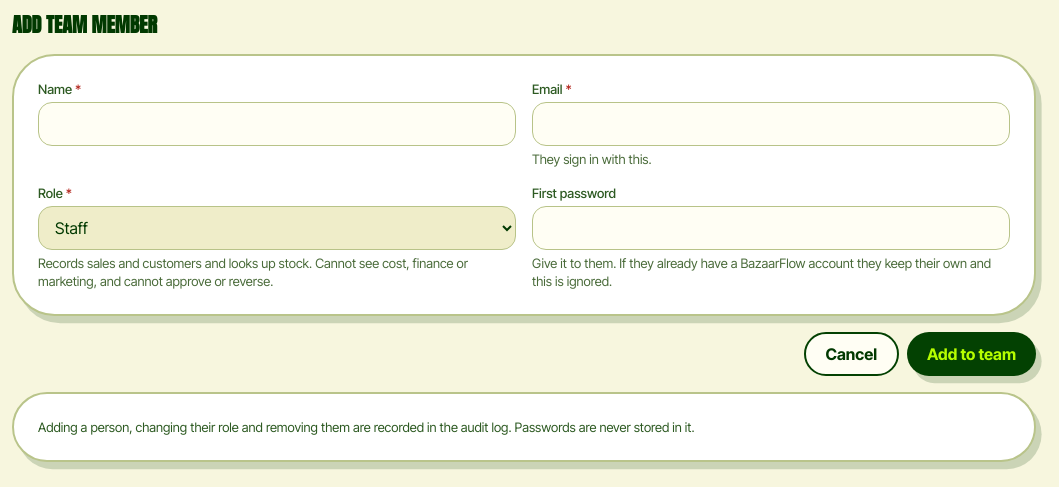
Scenario: Add team member form › explains what each role can do and checks the input before sending
Expected: the text "Records sales and customers" is shown, 38,255 -> 468,289
Select "Manager" in the dropdown labelled "Role *" at {"x": 277, "y": 228}, box 38,206 -> 516,250
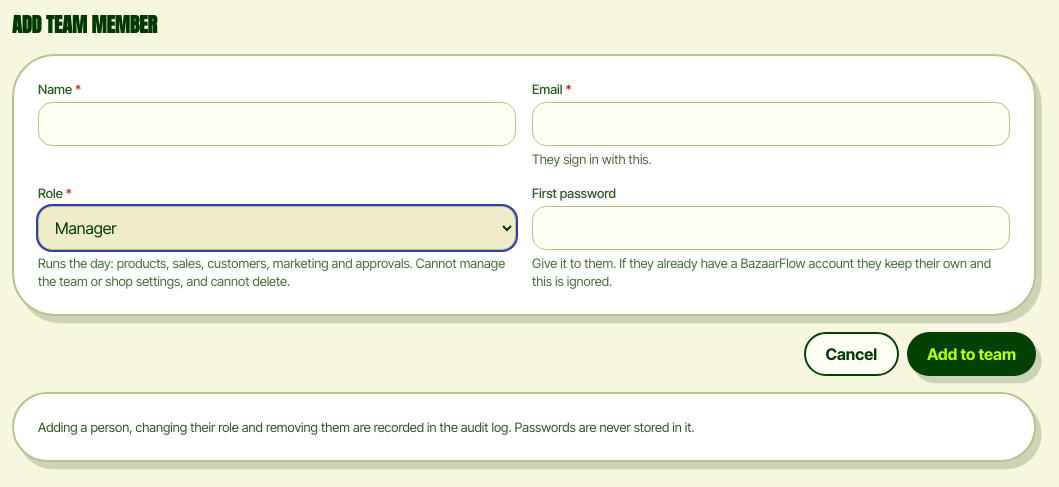
Expected: the text "Runs the day" is shown, 38,255 -> 505,289
Click the button "Add to team".
click(972, 354)  # box 907,332 -> 1036,376
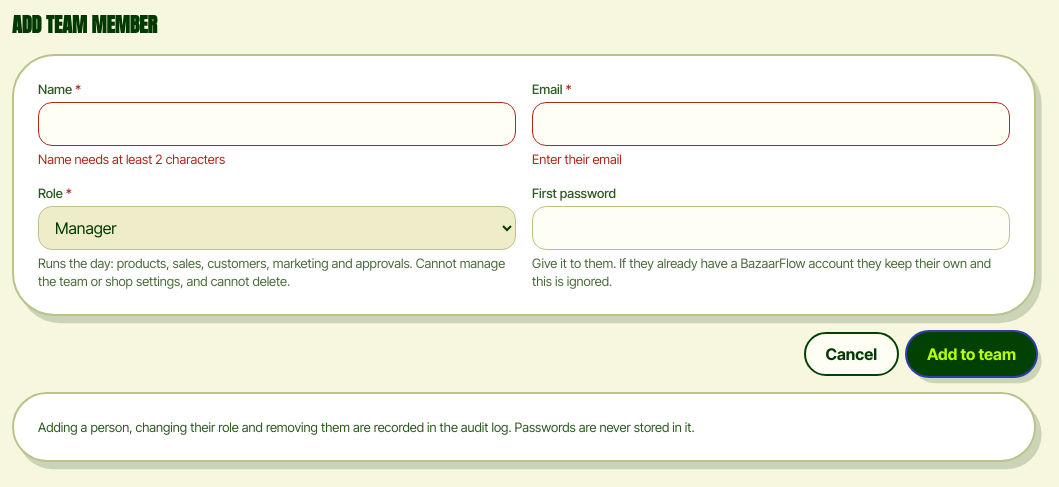
Expected: the text "Name needs at least 2 characters" is shown, 38,151 -> 225,167
Expected: the text "Enter their email" is shown, 532,151 -> 622,167
